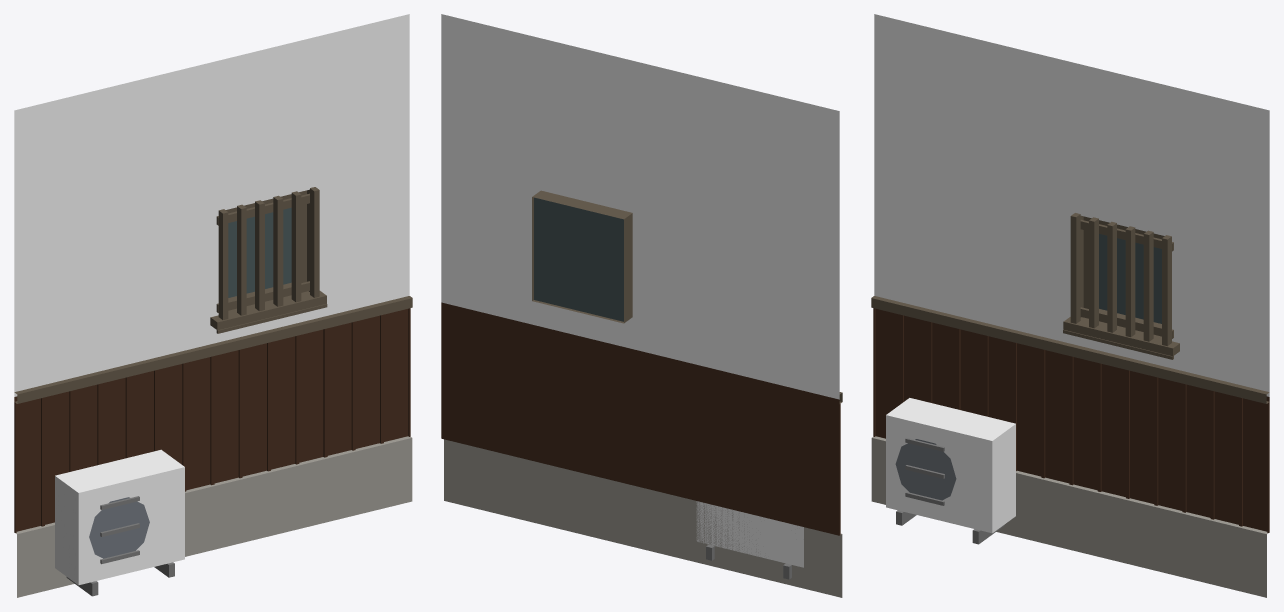
Rendered from base-w2_close.fbx.
3 views of the same model, side by side, from view 1: azimuth 30°, elevation 25°; view 2: azimuth 150°, elevation 25°; view 3: azimuth 330°, elevation 25° (orthographic).
Parts seen in each view (by area): view 1: a2015/800/base-w2_close; view 2: a2015/800/base-w2_close; view 3: a2015/800/base-w2_close.
Boxes of the visible parts, x1,y1,x2,y2 form: a2015/800/base-w2_close: (14, 14, 412, 597); a2015/800/base-w2_close: (441, 14, 842, 597); a2015/800/base-w2_close: (871, 14, 1269, 597).
Bounding box in the file's own units: 2.6 × 3.05 × 0.42.
